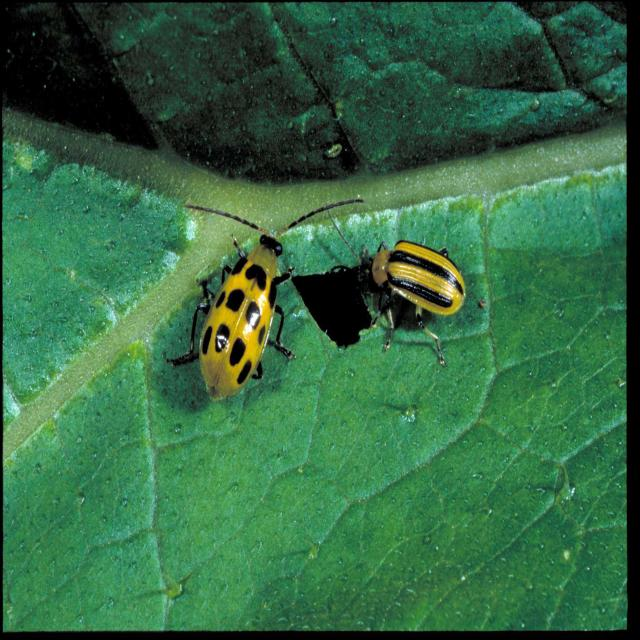cucumber_beetle: (154, 171, 358, 406), (301, 185, 488, 386)
